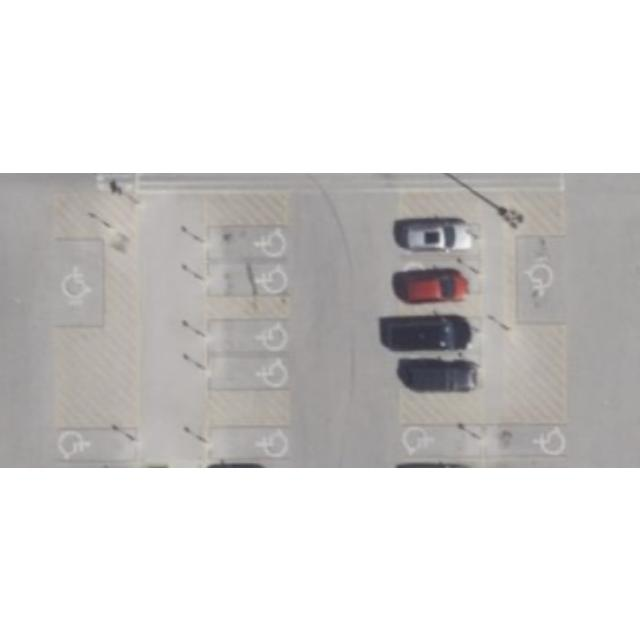Empty: (54, 240, 106, 326), (520, 234, 566, 322), (400, 422, 482, 460), (207, 352, 291, 388), (206, 260, 290, 296), (484, 421, 568, 457), (208, 426, 294, 460), (206, 224, 292, 258), (52, 428, 136, 462), (208, 318, 292, 352)
Parked: (385, 317, 485, 348), (395, 218, 481, 254), (396, 356, 484, 390), (400, 263, 482, 297)
